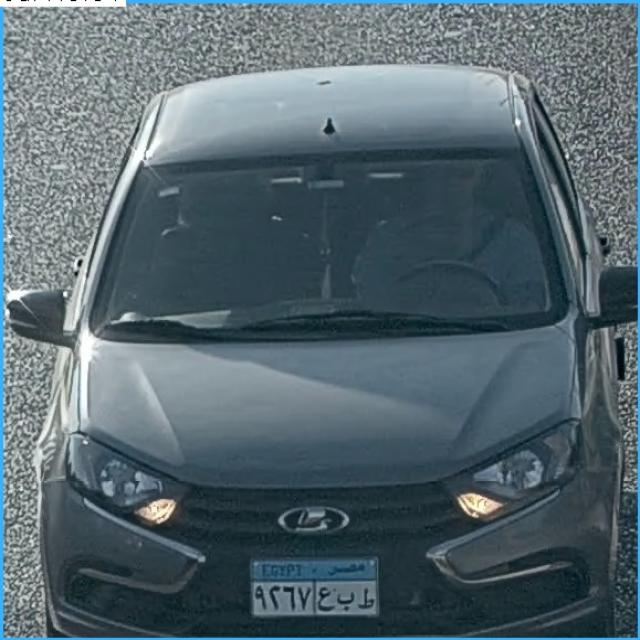windshield: (106, 154, 556, 330)
